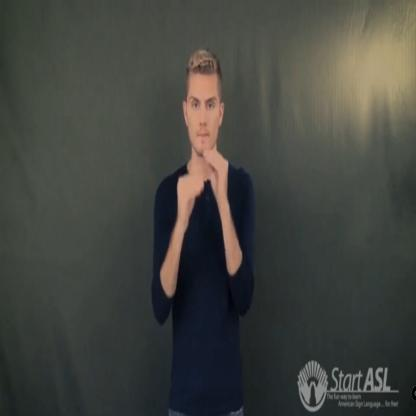Fix: (174, 142, 230, 240)
